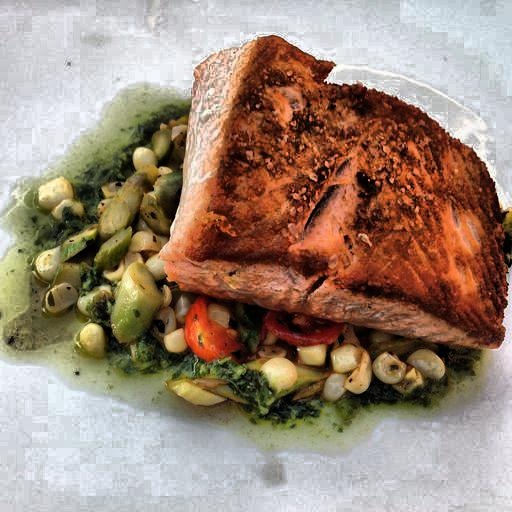fish: (166, 36, 505, 363)
